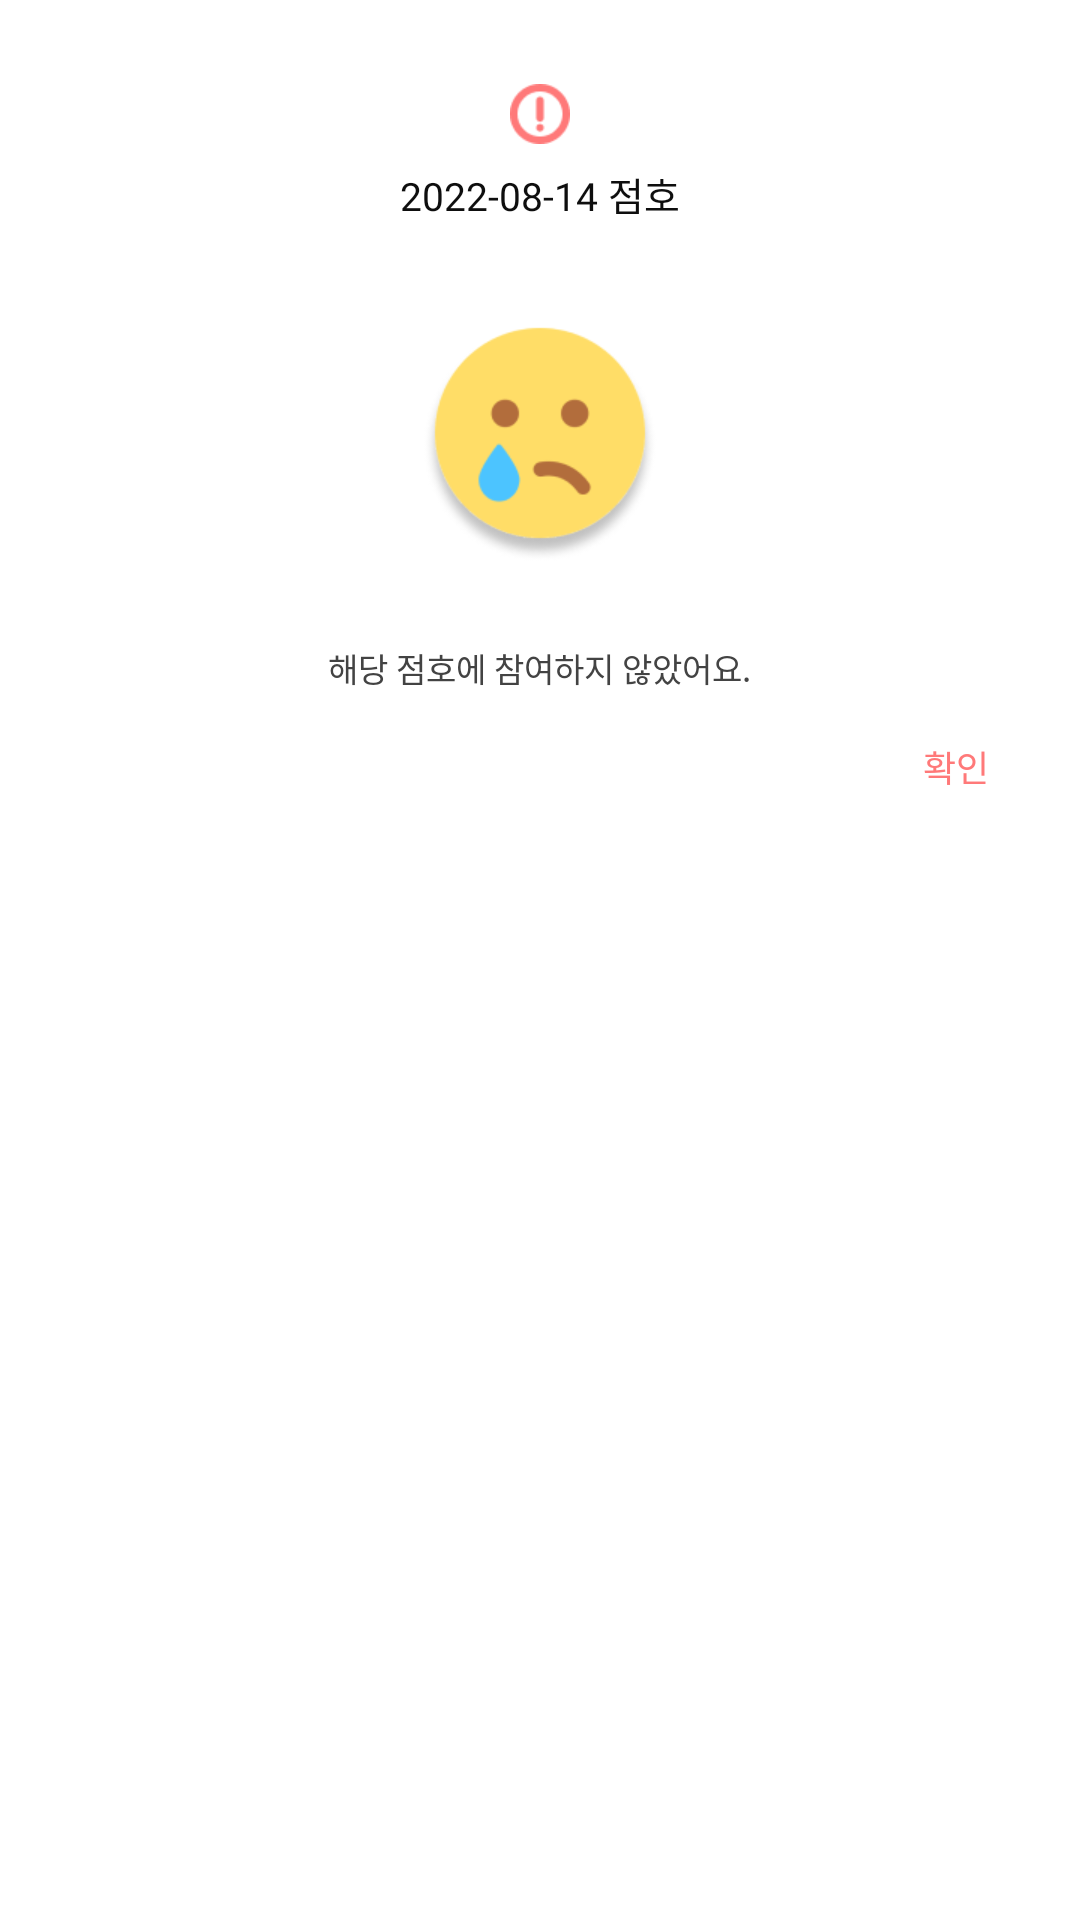

Where icons sit on this 1080px x 1920px app screen, as [x1=x1, y1=y1, x2=x2, y2=y2]:
home calendar error: [x1=510, y1=84, x2=570, y2=144]
home sad emoji: [x1=434, y1=327, x2=647, y2=551]
